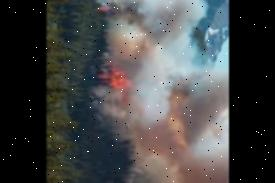fire: (92, 56, 134, 101), (95, 0, 116, 18)
